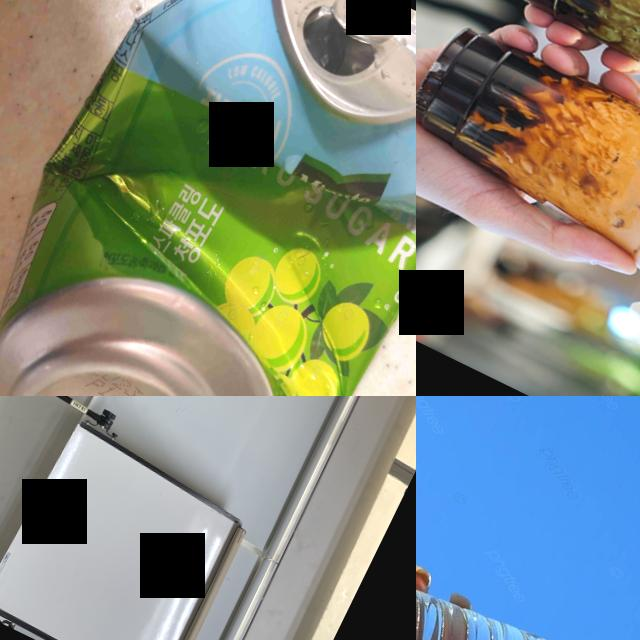bottle: (416, 534, 640, 640)
cup: (416, 0, 640, 333), (481, 0, 640, 180)
